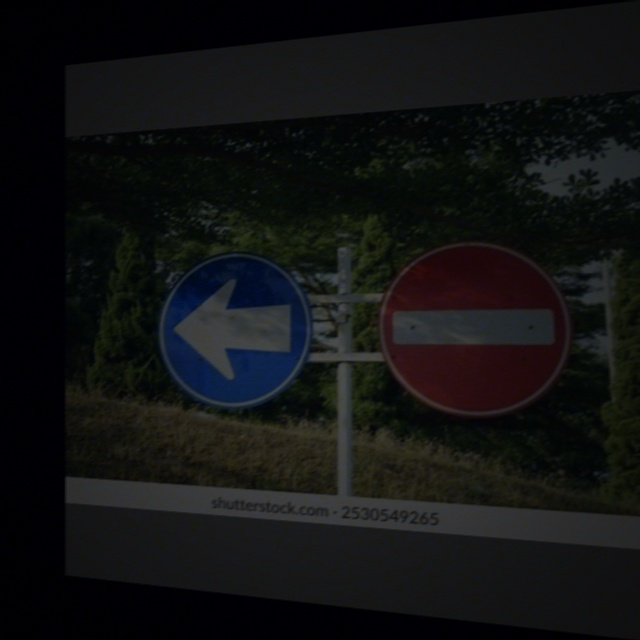Compulsory_Turn_Left: (155, 248, 311, 410)
